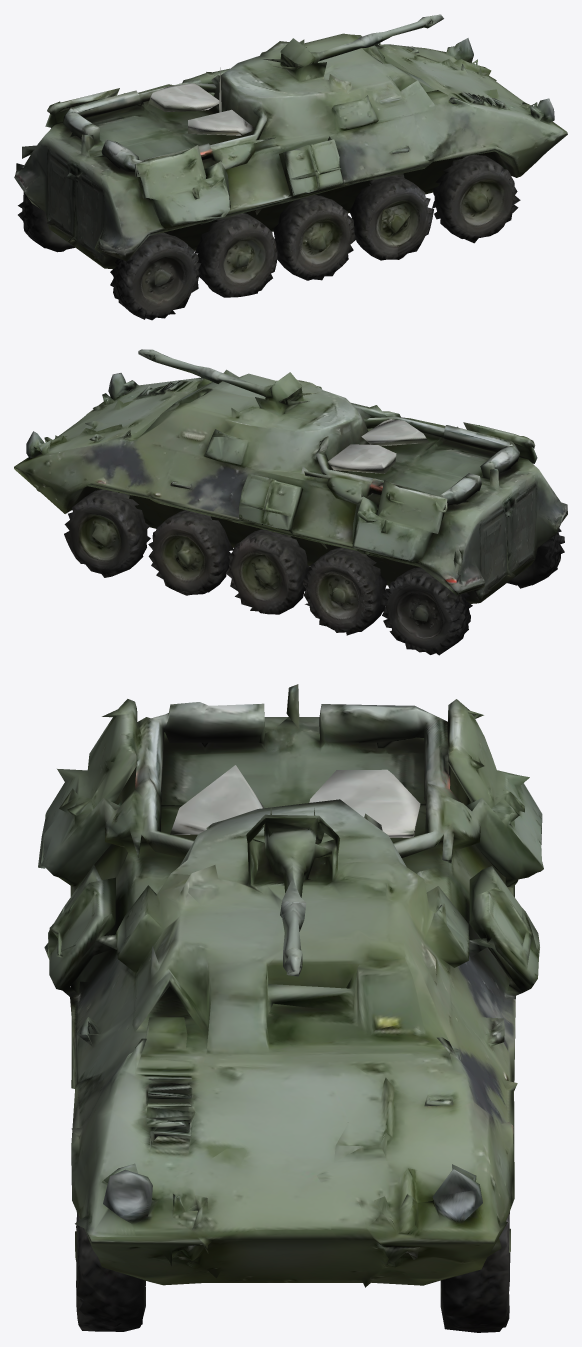
File: ul_btr.glb
The picture shows the model from 3 angles, top to bottom: view 1: azimuth 30°, elevation 25°; view 2: azimuth 150°, elevation 25°; view 3: azimuth 270°, elevation 25°; orthographic projection. The views are drawn at different scales.
Parts seen in each view (by area): view 1: tripo_node_50542d80-7742-49b3-a681-df18cbfa77d9; view 2: tripo_node_50542d80-7742-49b3-a681-df18cbfa77d9; view 3: tripo_node_50542d80-7742-49b3-a681-df18cbfa77d9.
Boxes of the visible parts, <box> form: tripo_node_50542d80-7742-49b3-a681-df18cbfa77d9: <box>14,14,567,320</box>; tripo_node_50542d80-7742-49b3-a681-df18cbfa77d9: <box>14,349,567,655</box>; tripo_node_50542d80-7742-49b3-a681-df18cbfa77d9: <box>38,684,543,1332</box>.
Size of the model in its own units: 1 by 0.3995 by 0.4778.
1 material, 1 textured.
